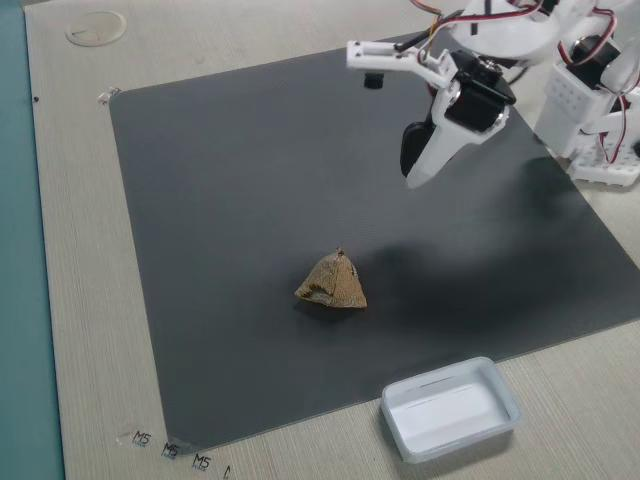objects: (341, 43, 526, 190)
